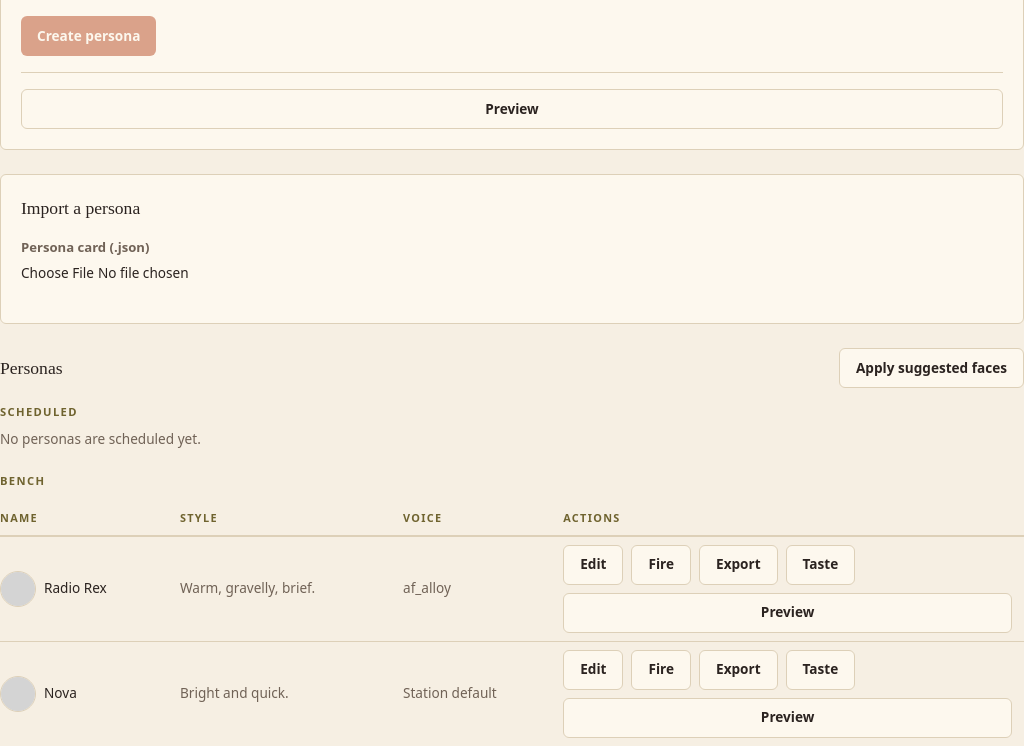
Test: Feature: Two-stage firing with a parachute › Scenario: the export-first gate (SPEC F94.2, STORY-247 AC2) › disables Delete until export is clicked or skip is acknowledged
(page scrolled)
Click the button with aria-label "Fire Radio Rex" at (661,564), box [632, 544, 691, 584]
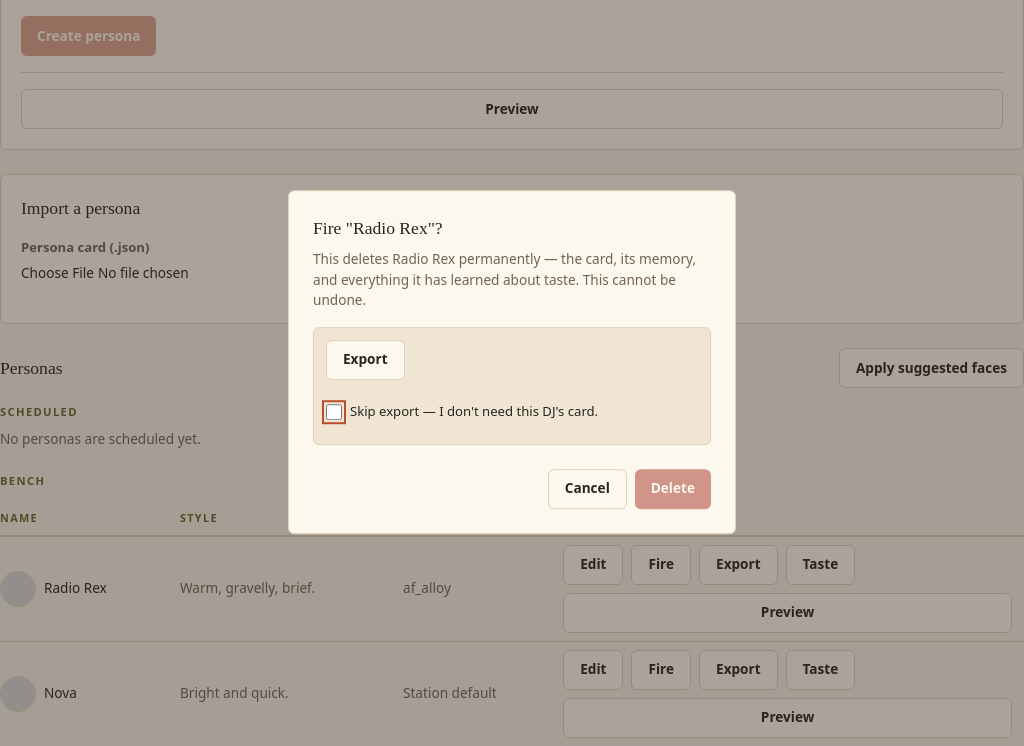
Result: the button "Delete" is disabled at [635, 469, 711, 509]
